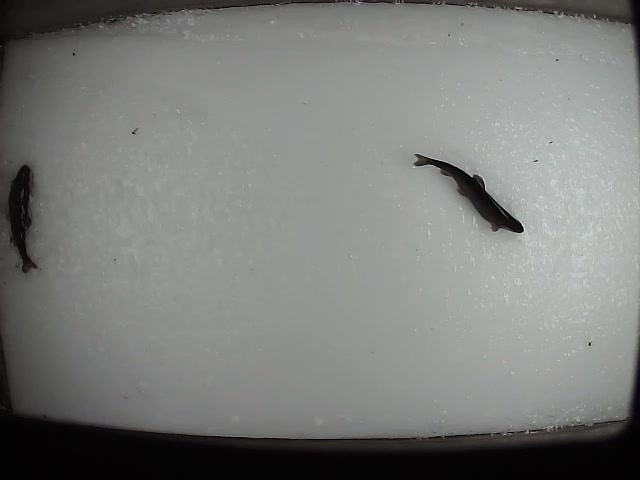fish: (409, 147, 526, 234), (5, 163, 40, 274)
